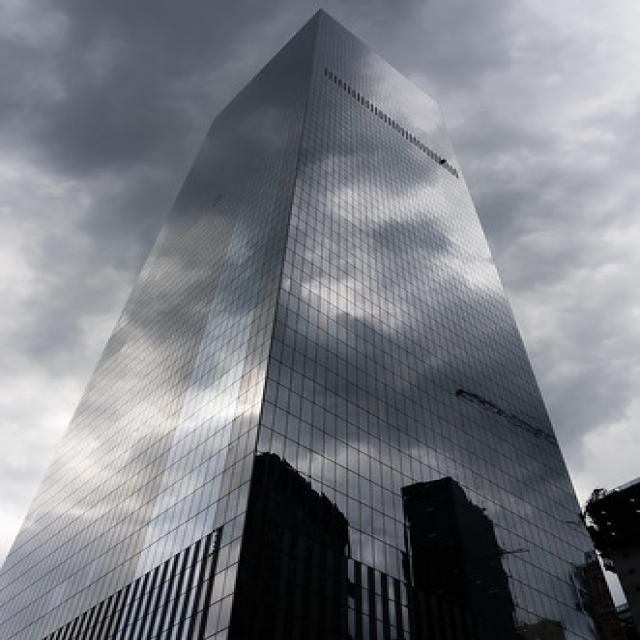Normal_building: (6, 5, 640, 640)
